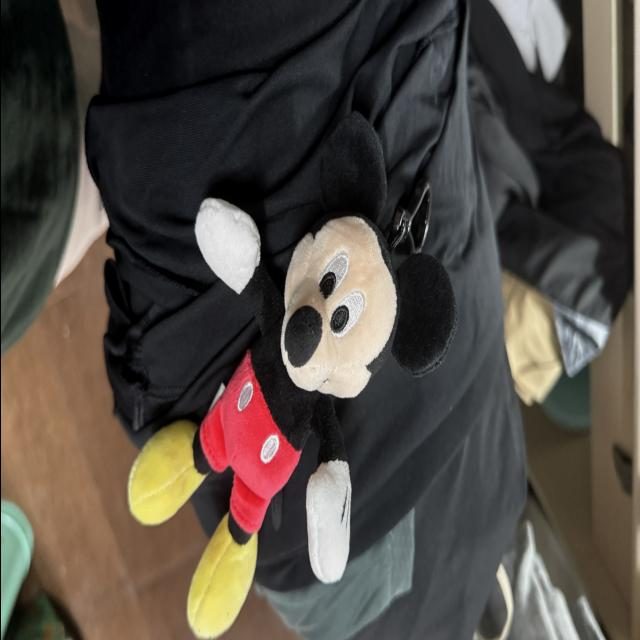mickey: (128, 199, 455, 638)
